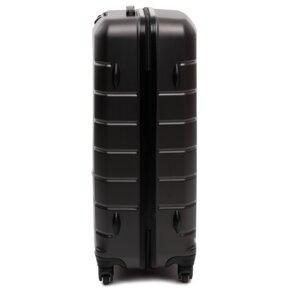suitcase: (85, 2, 203, 290)
